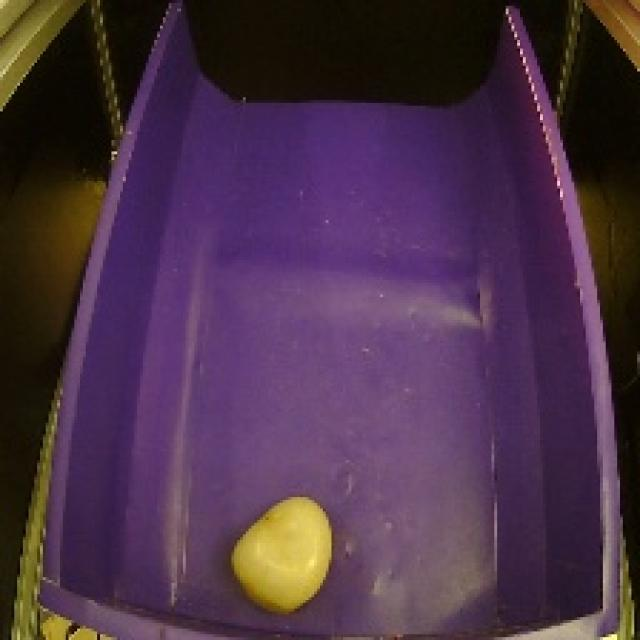cobbles: (224, 484, 342, 620)
